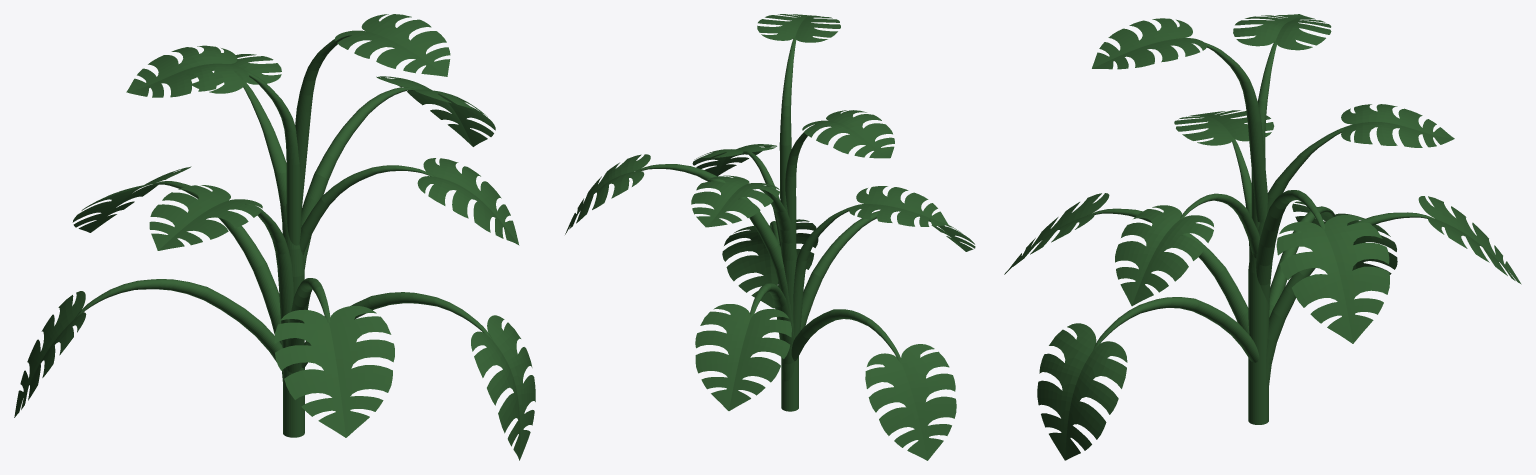
The model's file is planta1.fbx.
3 renders of one model, left to right at view 1: azimuth 30°, elevation 25°; view 2: azimuth 150°, elevation 25°; view 3: azimuth 270°, elevation 25°, orthographic. The views are drawn at different scales.
Parts seen in each view (by area): view 1: Plane.004; view 2: Plane.004; view 3: Plane.004.
Part boxes in pixels (x1,y1,x2,y2): Plane.004: (14,14,535,460); Plane.004: (565,14,975,460); Plane.004: (1004,14,1521,460).
Bounding box in the file's own units: 7985 × 6991 × 8170.
